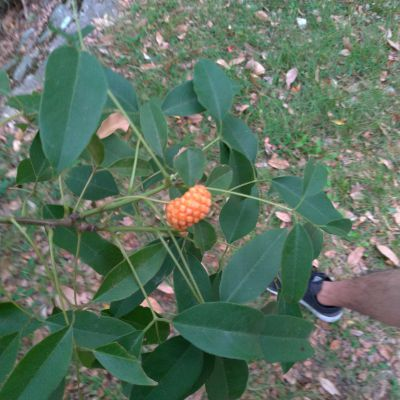eggs: (160, 181, 216, 228)
